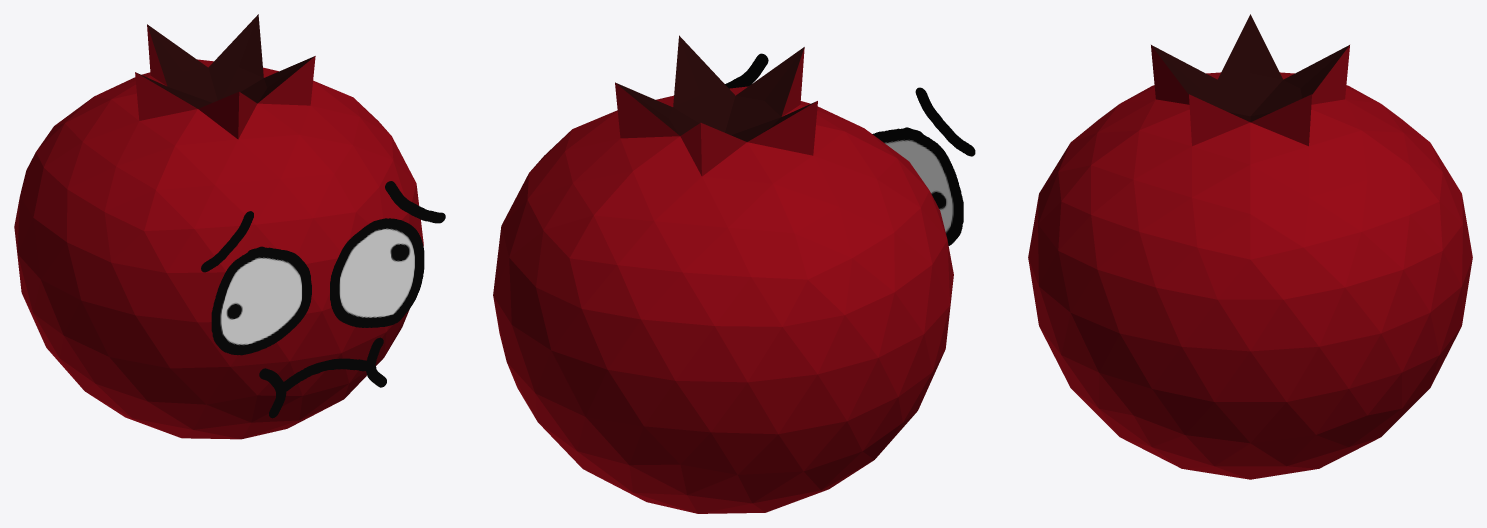
Rendered from pomegranate_000000.obj.
3 renders of one model, left to right at view 1: azimuth 30°, elevation 25°; view 2: azimuth 150°, elevation 25°; view 3: azimuth 270°, elevation 25°, orthographic. The views are drawn at different scales.
Visible parts, largest first — view 1: Icosphere, Plane; view 2: Icosphere, Plane; view 3: Icosphere.
Boxes of the visible parts, x1,y1,x2,y2 form: Icosphere: (14,14,423,439); Plane: (201,181,445,418); Icosphere: (493,35,953,513); Plane: (725,53,975,245); Icosphere: (1028,14,1472,479).
Bounding box in the file's own units: 2 × 1.99 × 2.
